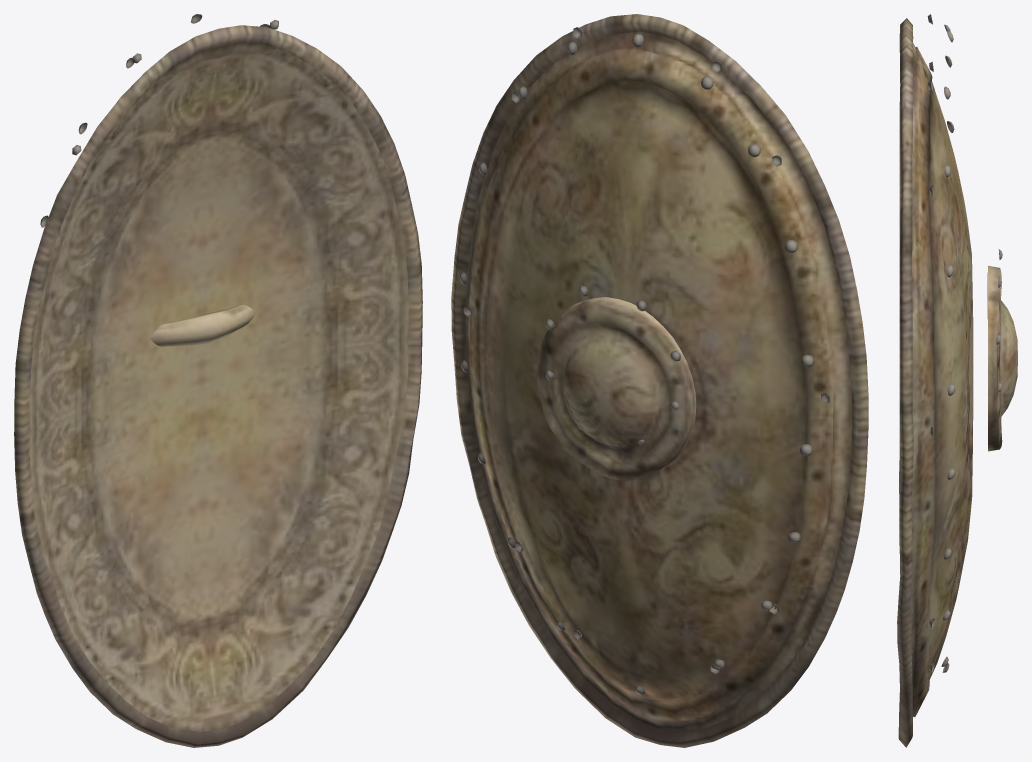
The model's file is weapon-wp_a_2225.glb.
3 renders of one model, left to right at view 1: azimuth 30°, elevation 25°; view 2: azimuth 150°, elevation 25°; view 3: azimuth 270°, elevation 25°, orthographic. The views are drawn at different scales.
Parts seen in each view (by area): view 1: wp_a_2225_mesh; view 2: wp_a_2225_mesh; view 3: wp_a_2225_mesh.
Part boxes in pixels (x1,y1,x2,y2): wp_a_2225_mesh: [14, 14, 422, 747]; wp_a_2225_mesh: [451, 14, 868, 747]; wp_a_2225_mesh: [897, 14, 1017, 747].
Bounding box in the file's own units: 0.78 × 1.3 × 0.2024.
1 material, 1 textured.
